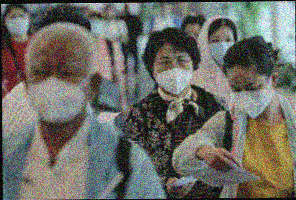with_mask: (26, 59, 91, 125), (227, 81, 274, 120), (152, 53, 193, 97), (208, 33, 235, 65), (5, 10, 31, 38)
